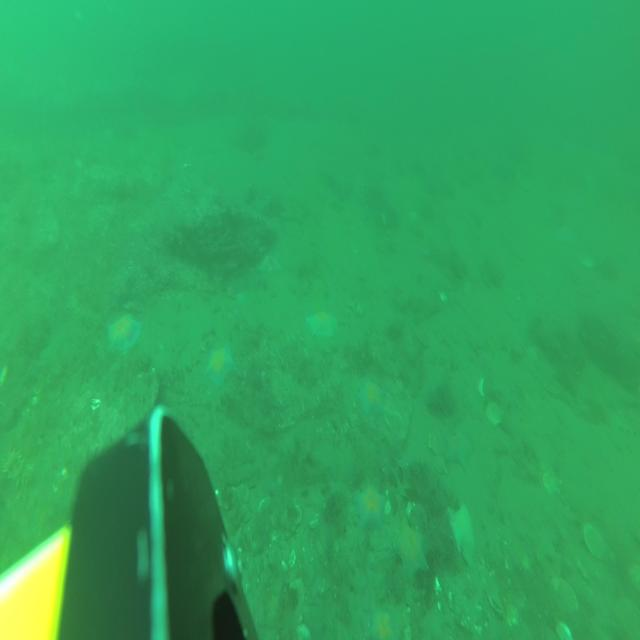scallop: (584, 518, 606, 559), (542, 465, 562, 496), (284, 504, 302, 532), (486, 398, 502, 427)
starfish: (394, 524, 429, 578), (355, 483, 385, 532), (107, 314, 141, 352), (205, 342, 232, 387), (358, 378, 384, 415), (307, 308, 337, 339), (369, 608, 397, 640)
